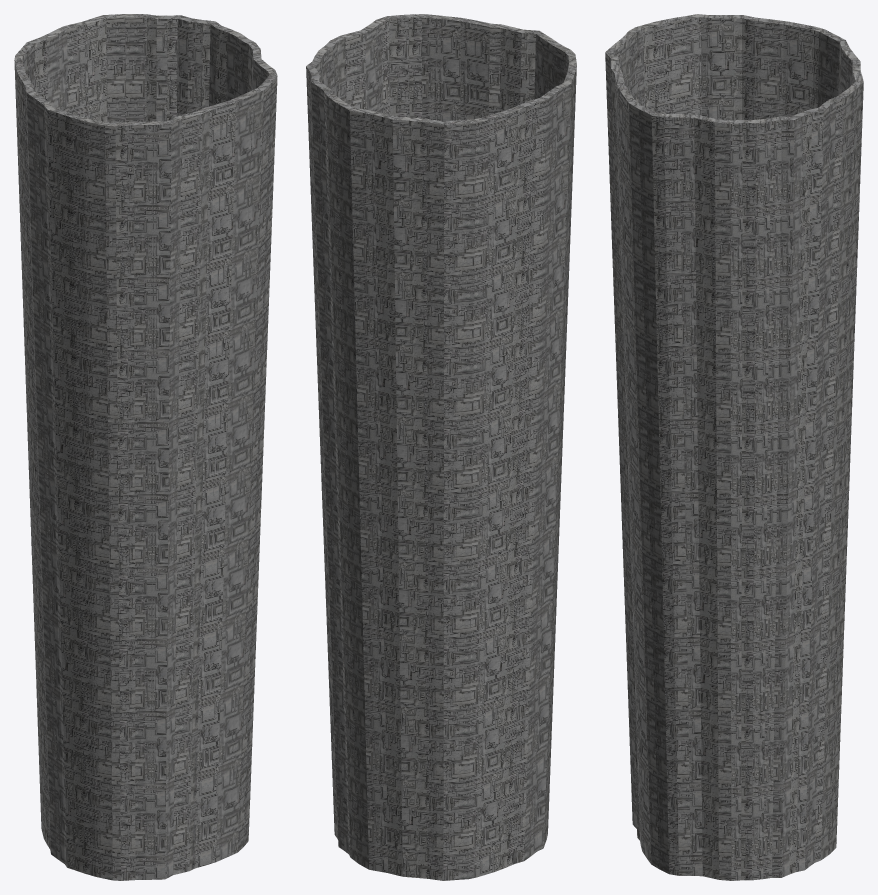
File: Area6_Border 3.fbx
3 renders of one model, left to right at view 1: azimuth 30°, elevation 25°; view 2: azimuth 150°, elevation 25°; view 3: azimuth 270°, elevation 25°, orthographic.
Visible parts, largest first — view 1: Area6_Border_3; view 2: Area6_Border_3; view 3: Area6_Border_3.
Boxes of the visible parts, <box> form: Area6_Border_3: <box>14,14,277,880</box>; Area6_Border_3: <box>306,14,576,880</box>; Area6_Border_3: <box>605,14,863,880</box>.
Size of the model in its own units: 1600 by 5217 by 1591.
1 material, 1 textured.
